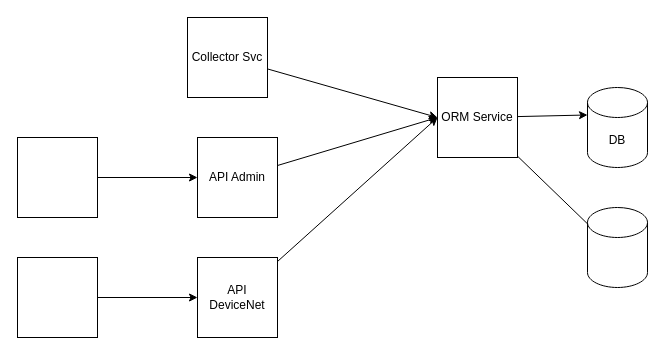
Image size: 665x355. Some labels were removed from this diagram. Each missing label, with the centre of its shape:
Admin Web: [57,177]
deviceNet Web: [57,297]
